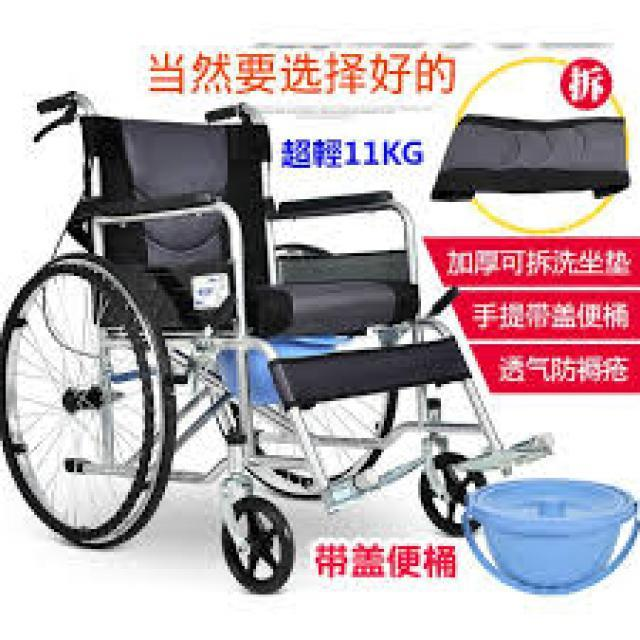wheelchair: (8, 82, 520, 598)
